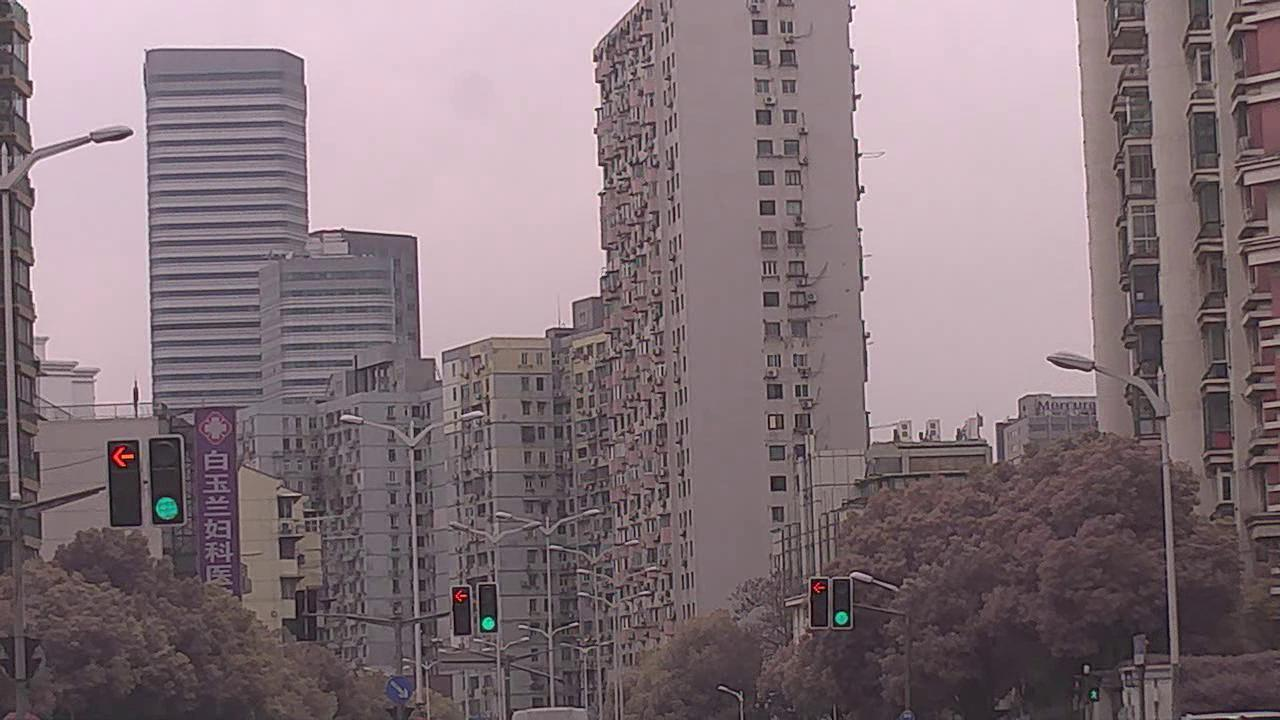traffic_light: (150, 438, 187, 523), (108, 442, 145, 527), (834, 575, 857, 626), (810, 577, 832, 630), (451, 584, 474, 633), (476, 584, 500, 629)
